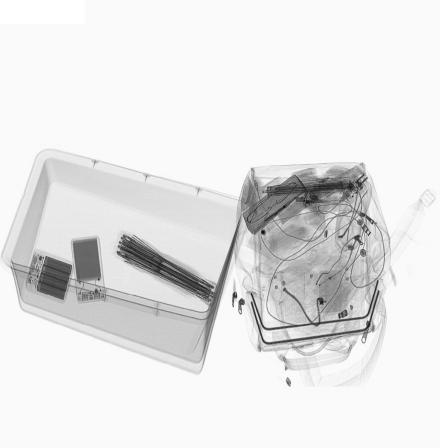Powerbank: (24, 251, 74, 302), (71, 234, 106, 305)
